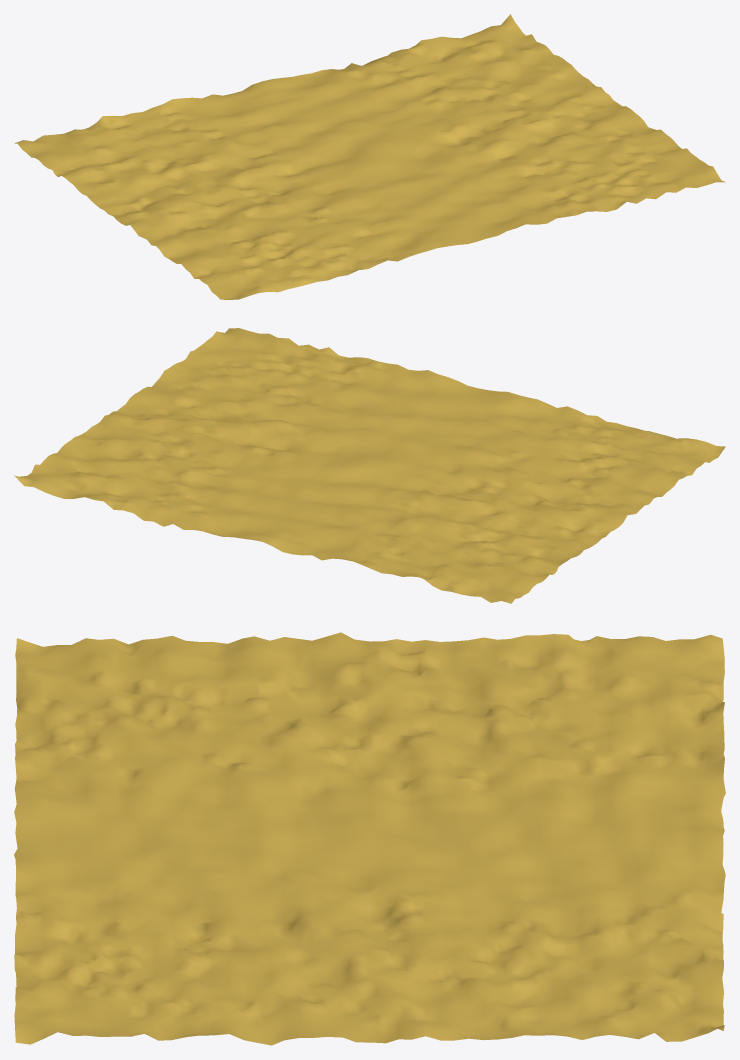
The model's file is Wueste.DAE.
3 views of the same model, one above another, from view 1: azimuth 30°, elevation 25°; view 2: azimuth 150°, elevation 25°; view 3: azimuth 270°, elevation 25° (orthographic). The views are drawn at different scales.
Parts seen in each view (by area): view 1: Wüste; view 2: Wüste; view 3: Wüste.
Part boxes in pixels (x1=…): Wüste: x1=15, y1=14, x2=725, y2=299; Wüste: x1=14, y1=328, x2=725, y2=603; Wüste: x1=14, y1=632, x2=725, y2=1045.
Size of the model in its own units: 40053 by 1182 by 30180.
